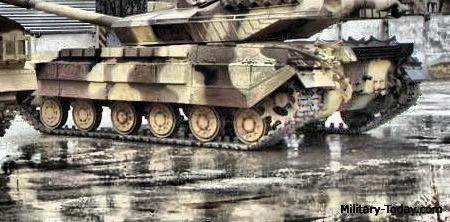tanks: (1, 1, 423, 151), (1, 16, 36, 139)
